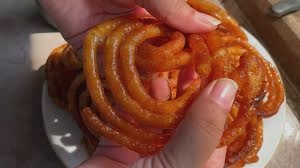pani_walalu: (81, 11, 285, 164)
